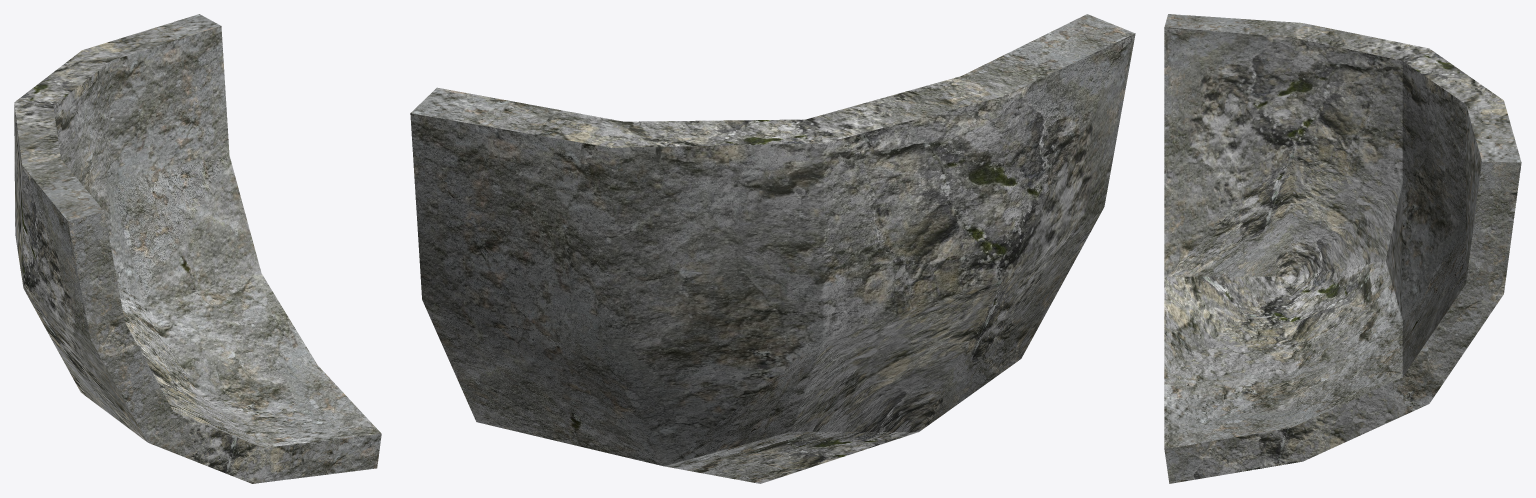
Rendered from UWCorner.fbx.
The picture shows the model from 3 angles, left to right: view 1: azimuth 30°, elevation 25°; view 2: azimuth 150°, elevation 25°; view 3: azimuth 270°, elevation 25°; orthographic projection. The views are drawn at different scales.
Visible parts, largest first — view 1: UWCorner; view 2: UWCorner; view 3: UWCorner.
Part boxes in pixels (left/top/right/bottom): UWCorner: left=14, top=14, right=381, bottom=483; UWCorner: left=410, top=14, right=1135, bottom=483; UWCorner: left=1164, top=14, right=1521, bottom=483.
Bounding box in the file's own units: 450 × 450 × 450.
